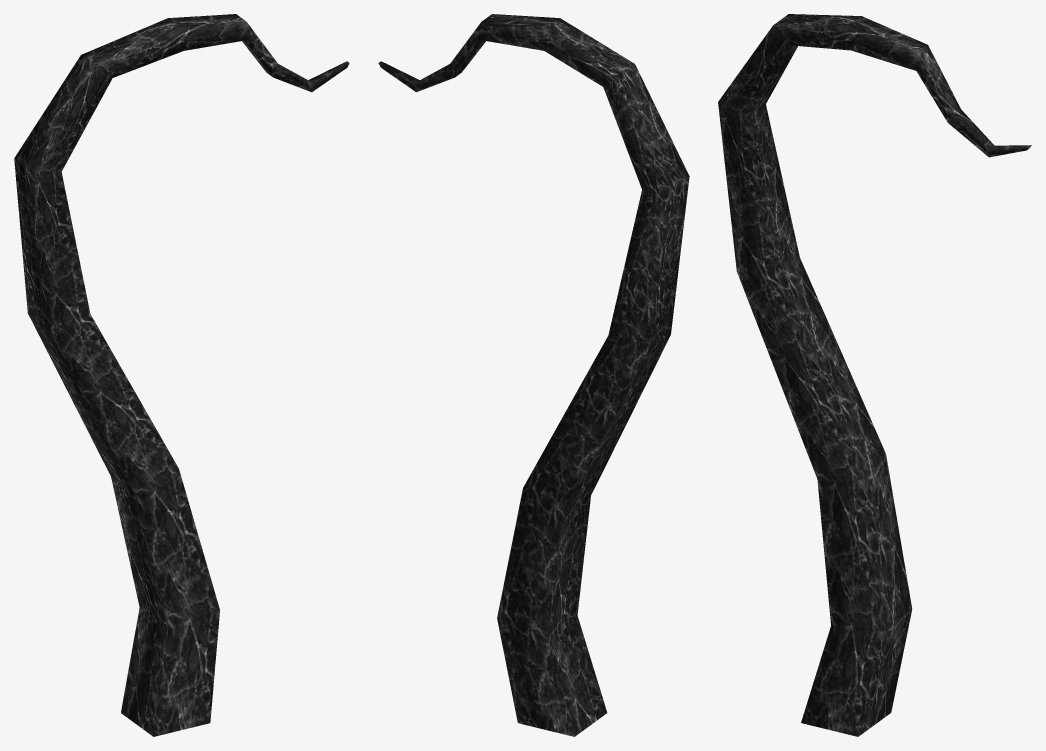
The model's file is Burned Tree 2.fbx.
3 renders of one model, left to right at view 1: azimuth 30°, elevation 25°; view 2: azimuth 150°, elevation 25°; view 3: azimuth 330°, elevation 25°, orthographic.
Parts seen in each view (by area): view 1: Cube; view 2: Cube; view 3: Cube.
Boxes of the visible parts, x1=… form: Cube: x1=14, y1=14, x2=349, y2=736; Cube: x1=378, y1=14, x2=689, y2=736; Cube: x1=718, y1=14, x2=1031, y2=736.
Bounding box in the file's own units: 0.6507 × 2.76 × 5.83.
